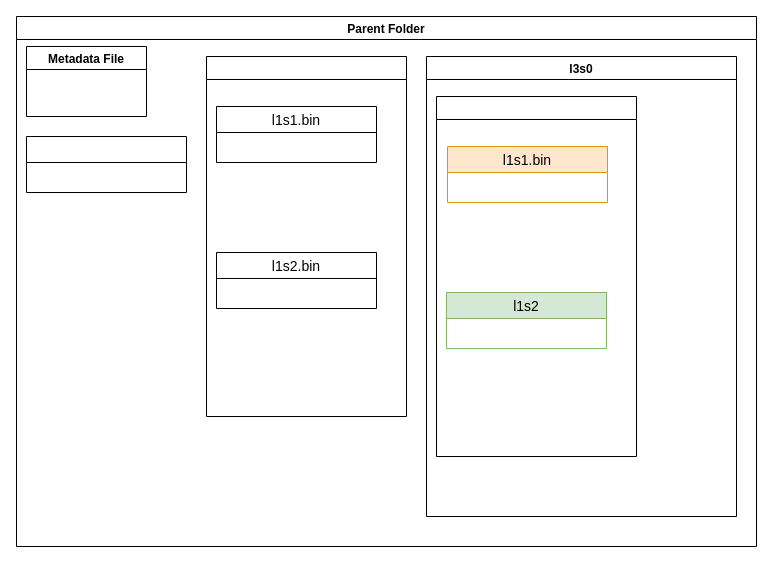
The diagram is 773 pixels wide and 563 high, and some of its shapes have lost their labels. Here are the shapes that lost their labels. From the top down, the box of each, then its label:
(26, 136, 186, 192): l1s0.bin
(206, 56, 406, 416): l2s0
(436, 96, 636, 456): l2s3
